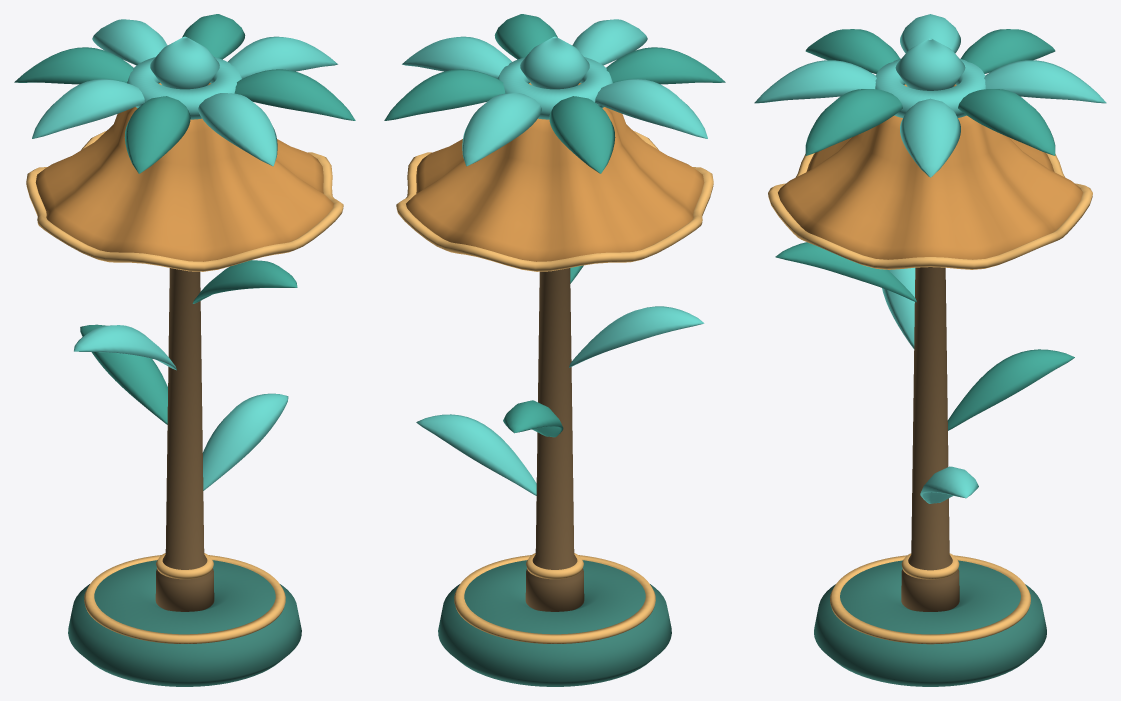
Rendered from Rainbell Sculpture.fbx.
3 renders of one model, left to right at view 1: azimuth 30°, elevation 25°; view 2: azimuth 150°, elevation 25°; view 3: azimuth 270°, elevation 25°, orthographic.
Parts seen in each view (by area): view 1: Rainbell Crown, Rainbell Base, Rainbell Stem, Rainbell Scalloped Lip, Stem Leaf 1, Brass Base Inlay, Bell Petal 5, Bell Petal 7, Bell Petal 8, Bell Petal 6, Bell Petal 4, Stem Leaf 2 (+8 smaller); view 2: Rainbell Crown, Rainbell Base, Rainbell Stem, Rainbell Scalloped Lip, Brass Base Inlay, Stem Leaf 1, Bell Petal 5, Bell Petal 3, Bell Petal 2, Bell Petal 4, Bell Petal 6, Stem Leaf 3 (+7 smaller); view 3: Rainbell Crown, Rainbell Base, Rainbell Stem, Rainbell Scalloped Lip, Stem Leaf 2, Brass Base Inlay, Bell Petal 8, Bell Petal 2, Bell Petal 1, Bell Petal 7, Bell Petal 3, Rain Catcher (+8 smaller).
Boxes of the visible parts, bbox=[...] form: Rainbell Crown: bbox=[35, 83, 333, 261]; Rainbell Base: bbox=[68, 560, 301, 686]; Rainbell Stem: bbox=[155, 268, 214, 611]; Rainbell Scalloped Lip: bbox=[26, 131, 343, 271]; Stem Leaf 1: bbox=[202, 393, 288, 490]; Brass Base Inlay: bbox=[84, 555, 285, 643]; Bell Petal 5: bbox=[32, 79, 144, 138]; Bell Petal 7: bbox=[198, 93, 277, 166]; Bell Petal 8: bbox=[234, 69, 355, 120]; Bell Petal 6: bbox=[124, 96, 190, 173]; Bell Petal 4: bbox=[14, 47, 133, 84]; Stem Leaf 2: bbox=[80, 324, 167, 424]; Rainbell Crown: bbox=[406, 83, 704, 261]; Rainbell Base: bbox=[438, 560, 671, 686]; Rainbell Stem: bbox=[525, 268, 584, 611]; Rainbell Scalloped Lip: bbox=[396, 131, 713, 271]; Brass Base Inlay: bbox=[454, 555, 655, 643]; Stem Leaf 1: bbox=[416, 414, 536, 495]; Bell Petal 5: bbox=[595, 79, 707, 138]; Bell Petal 3: bbox=[462, 93, 541, 166]; Bell Petal 2: bbox=[384, 69, 505, 120]; Bell Petal 4: bbox=[549, 96, 615, 173]; Bell Petal 6: bbox=[606, 47, 725, 84]; Stem Leaf 3: bbox=[569, 306, 704, 367]; Rainbell Crown: bbox=[778, 84, 1082, 259]; Rainbell Base: bbox=[814, 560, 1046, 686]; Rainbell Stem: bbox=[901, 267, 959, 611]; Rainbell Scalloped Lip: bbox=[768, 153, 1092, 269]; Stem Leaf 2: bbox=[947, 349, 1074, 430]; Brass Base Inlay: bbox=[830, 555, 1030, 644]; Bell Petal 8: bbox=[805, 89, 902, 155]; Bell Petal 2: bbox=[958, 89, 1055, 155]; Bell Petal 1: bbox=[900, 98, 960, 177]; Bell Petal 7: bbox=[754, 60, 876, 103]; Bell Petal 3: bbox=[984, 60, 1106, 103]; Rain Catcher: bbox=[895, 38, 965, 90].
Size of the model in its own units: 0.77 by 1.46 by 0.77.
